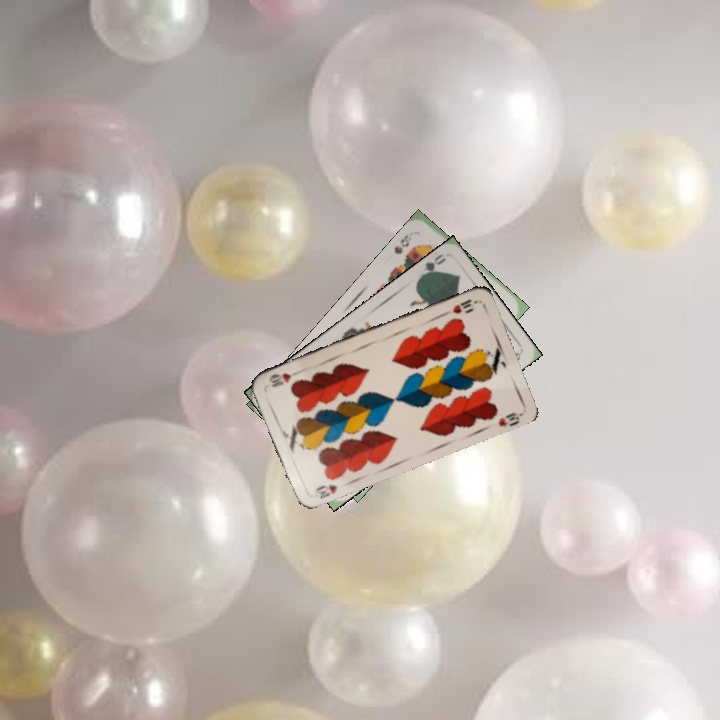GO: (415, 250, 449, 282)
H10: (439, 295, 474, 318), (309, 480, 340, 501)
S8: (390, 230, 414, 257)
